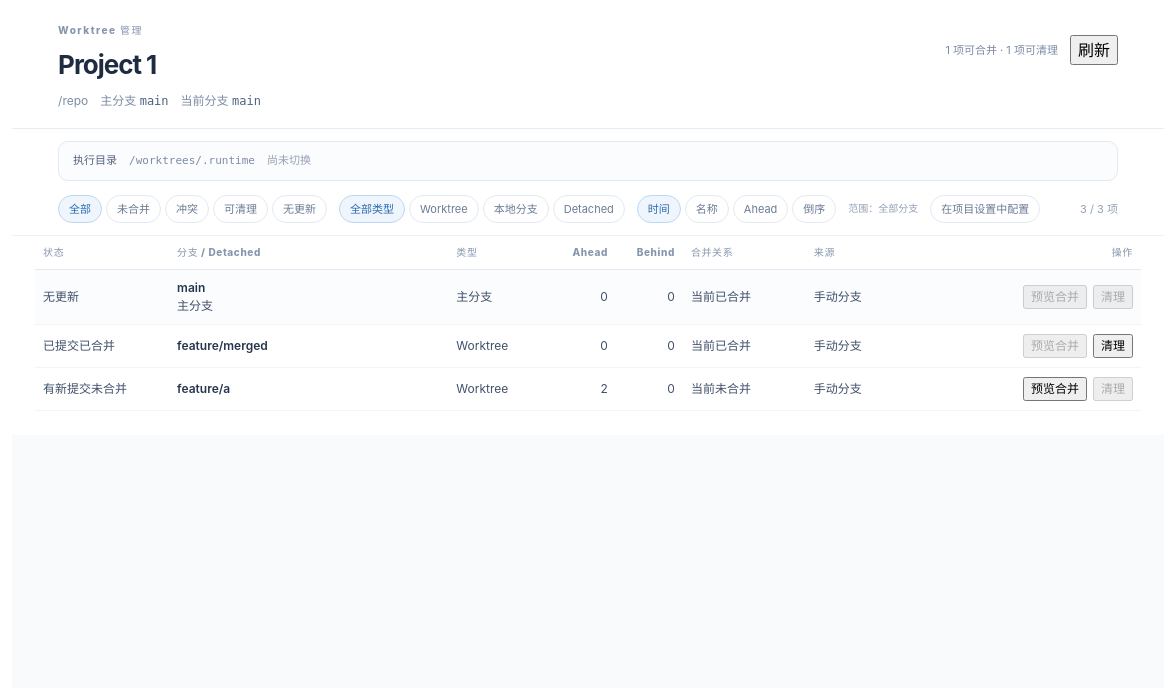
Scenario: Worktree 面板 › 预览合并会拉预览并在对话框里展示结论与命令
What coordinates should you click on to do the following:
click the 3rd button "预览合并"
I would click on:
 (1055, 389)
Its box is 1023,377 -> 1087,401.
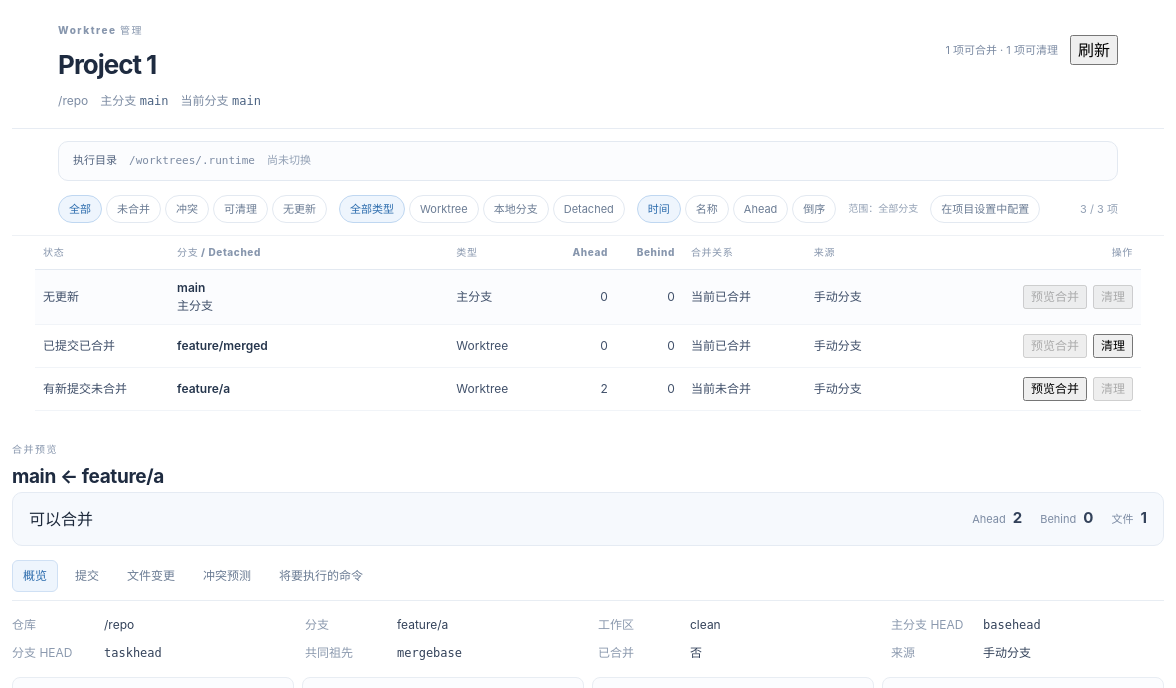
expect the element that starts with "可以合并" is shown: met, box 29,508 -> 93,528
What coordinates should you click on to do the following:
click the button "将要执行的命令"
I would click on:
 (321, 576)
Its box is 268,560 -> 374,592.
(page scrolled)
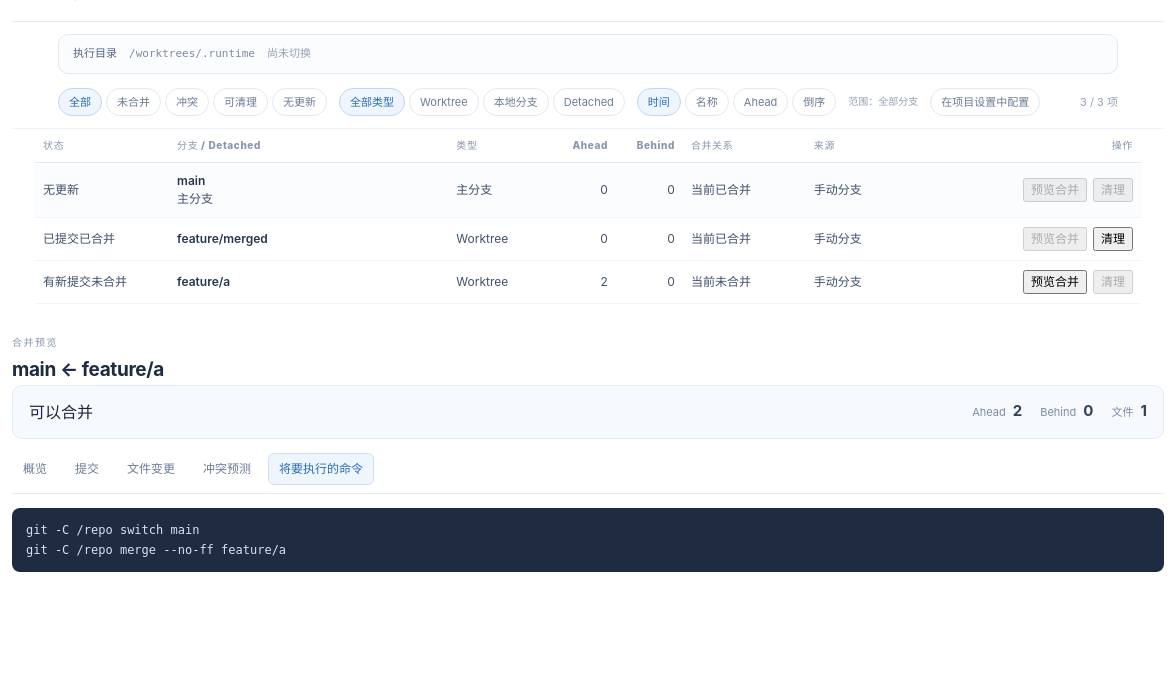
expect the text "merge --no-ff feature/a" is shown: met, box 26,522 -> 286,557
